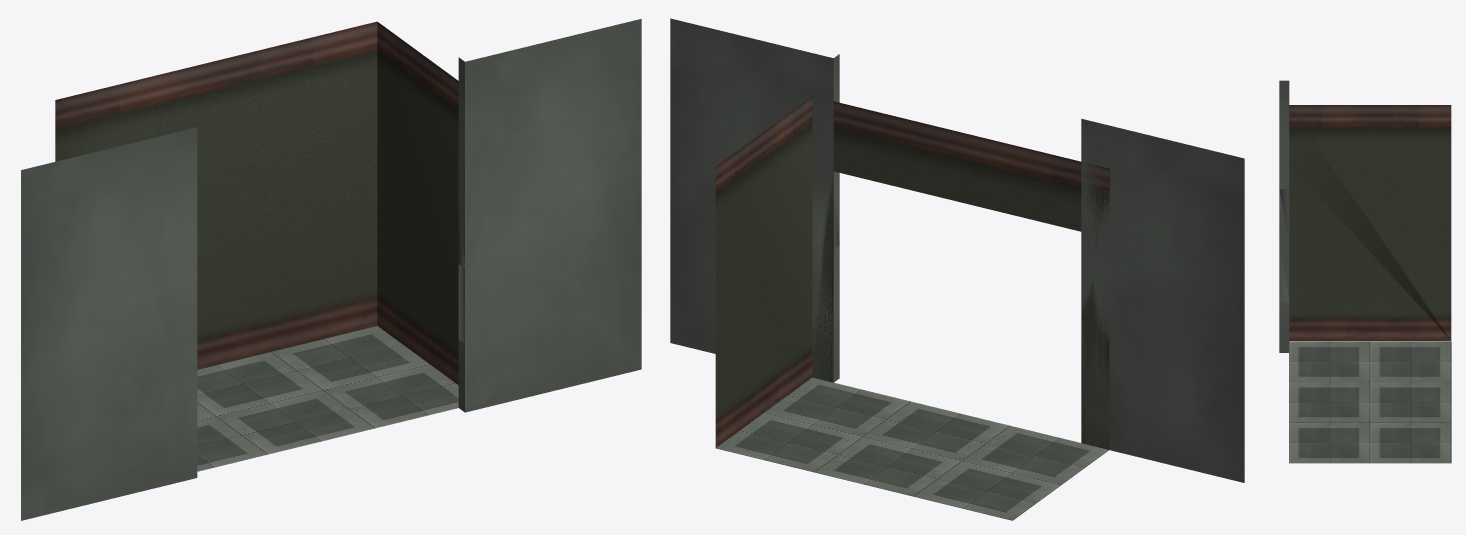
File: floor_elevator.glb
3 views of the same model, side by side, from view 1: azimuth 30°, elevation 25°; view 2: azimuth 150°, elevation 25°; view 3: azimuth 270°, elevation 25° (orthographic). The views are drawn at different scales.
Visible parts, largest first — view 1: elevator, right_door, left_door, ground; view 2: left_door, elevator, right_door, ground; view 3: elevator, ground, left_door.
Boxes of the visible parts, x1,y1,x2,y2 form: elevator: (55, 21, 458, 384); right_door: (458, 19, 641, 412); left_door: (21, 127, 197, 520); ground: (197, 326, 458, 471); left_door: (1081, 118, 1244, 482); elevator: (715, 96, 1109, 449); right_door: (670, 18, 839, 382); ground: (716, 377, 1108, 520); elevator: (1289, 105, 1451, 340); ground: (1289, 341, 1451, 463); left_door: (1279, 80, 1289, 352).
Bounding box in the file's own units: 29 × 15.66 × 8.98.
Materials: 5 (5 with a texture image).
